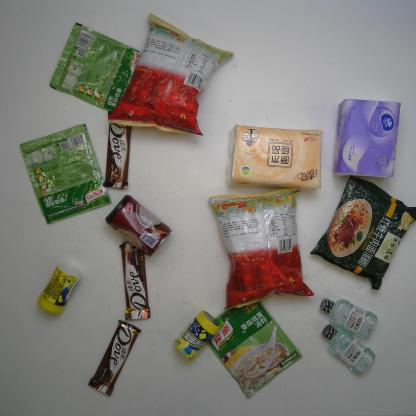Canned Food: (106, 194, 173, 259)
Chocolate: (87, 319, 142, 397), (118, 241, 151, 321), (102, 123, 132, 189)
Gum: (37, 262, 83, 316), (173, 310, 220, 361)
Instant Noodles: (308, 175, 416, 291)
Personal Hygiene: (322, 324, 375, 376), (320, 298, 378, 340)
Puffed Food: (108, 11, 236, 137), (208, 187, 317, 313)
Seasoner: (206, 299, 304, 400), (19, 122, 113, 227), (47, 22, 143, 111)
Tissue: (223, 122, 324, 190), (330, 98, 402, 178)
